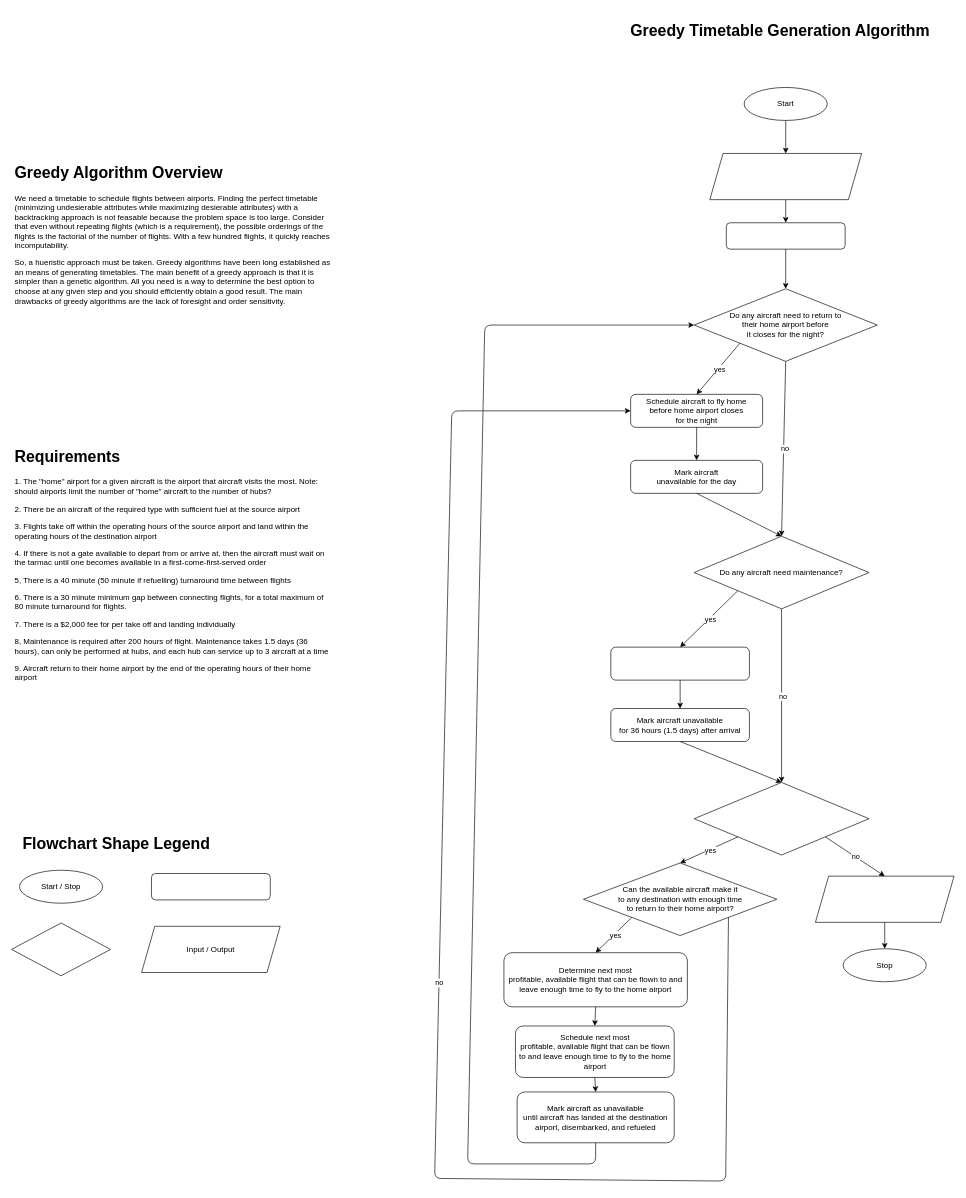
This 966x1198 diagram has some shape labels left out. The box of each missing label's shape, as (x1, y1, x2, y2) in pixels:
Are there any available aircraft?: (693, 782, 869, 855)
Decision: (11, 922, 111, 976)
Import flight, aircraft, and airport information from CSV into classes: (709, 153, 862, 200)
Process Step: (151, 873, 270, 900)
Schedule aircraft to fly to nearest hub with open spots for maintenance: (610, 646, 749, 680)
Serialize timetable as CSV file: (815, 875, 954, 922)
Sort flights by profit per hour: (726, 222, 845, 249)
